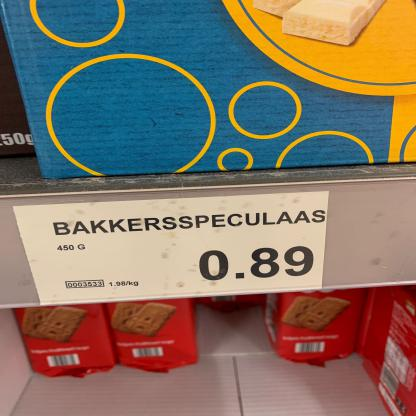prtg: (13, 193, 330, 307)
